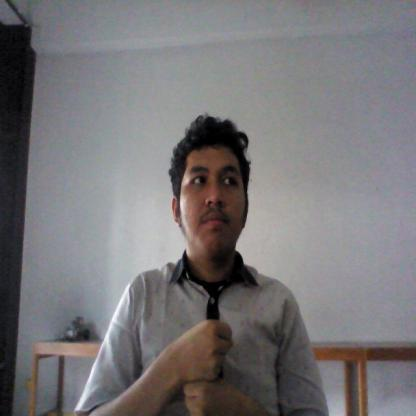G: (177, 318, 246, 416)
